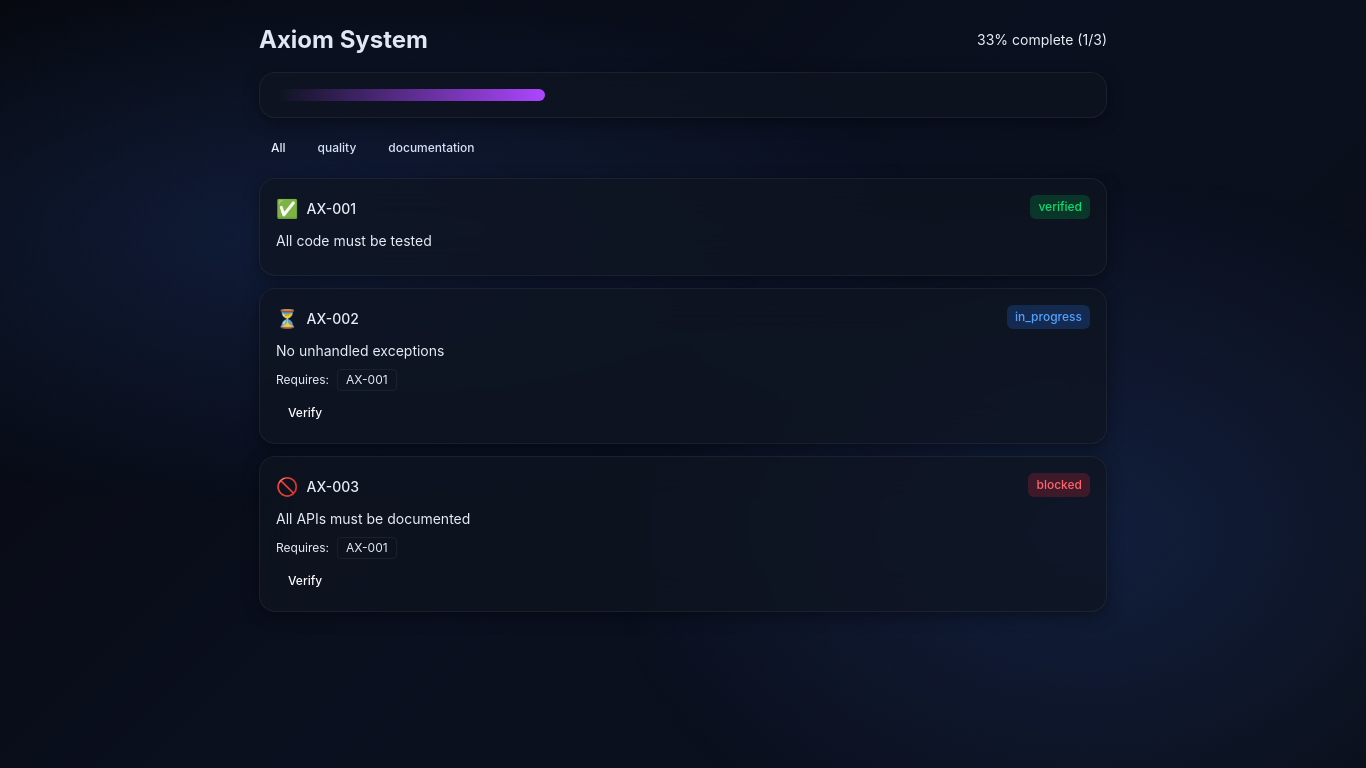
Test: AxiomsPanel › filters by category
The image size is (1366, 768).
Check: the text "All code must be tested" is shown, box [276,232,432,249]
Click the button "quality": (337, 148) [306,134,368,162]
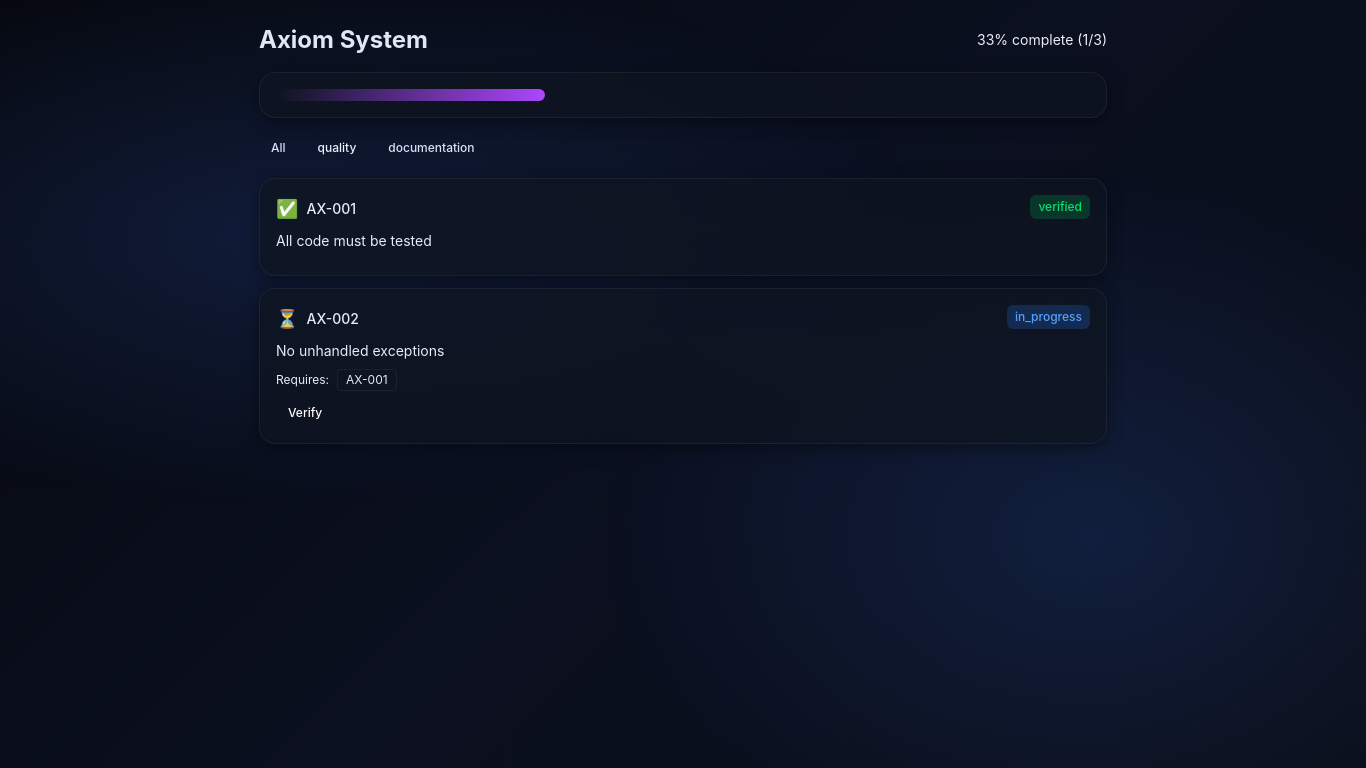
Check: the text "All code must be tested" is shown, box [276,232,432,249]
Check: the text "All APIs must be documented" is gone
